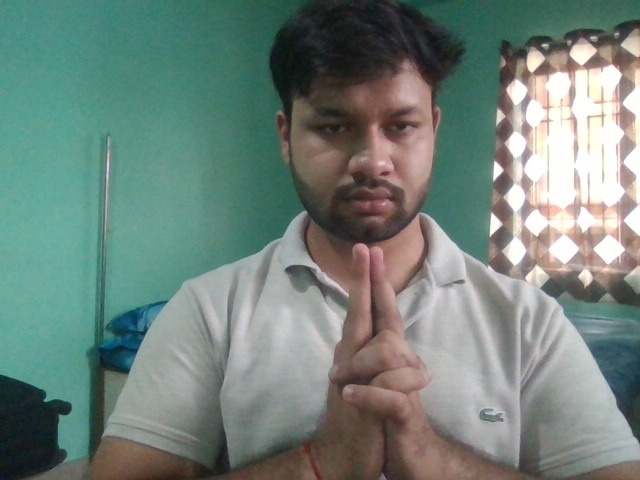1000 Years of Death: (309, 241, 451, 480)
